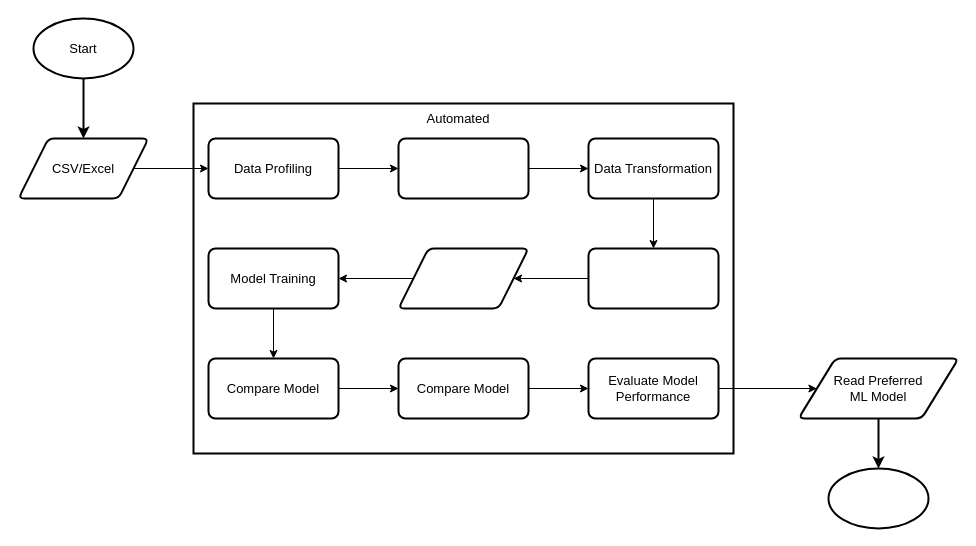
This 976x546 diagram has some shape labels left out. Each missing label, with the centre of its shape:
Data Split: (653,278)
End: (878,498)
Feature Engineering: (463,168)
Set Model Parameters: (463,278)
